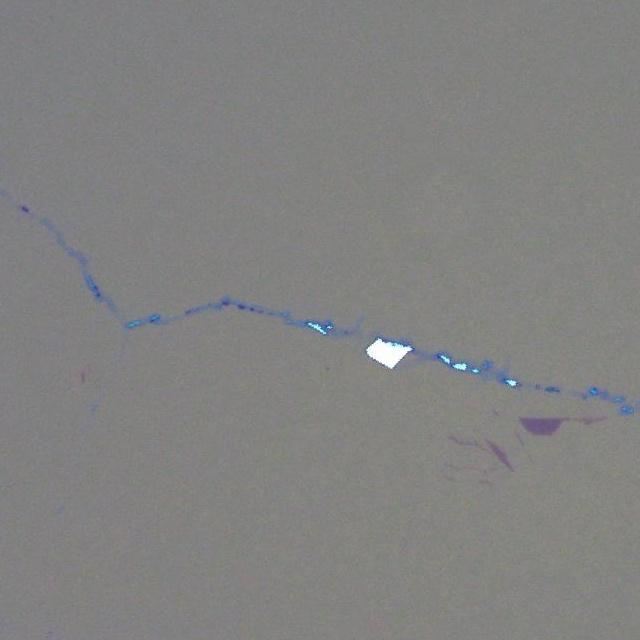monolayer-eWW4: (517, 415, 564, 438), (484, 436, 514, 472)
